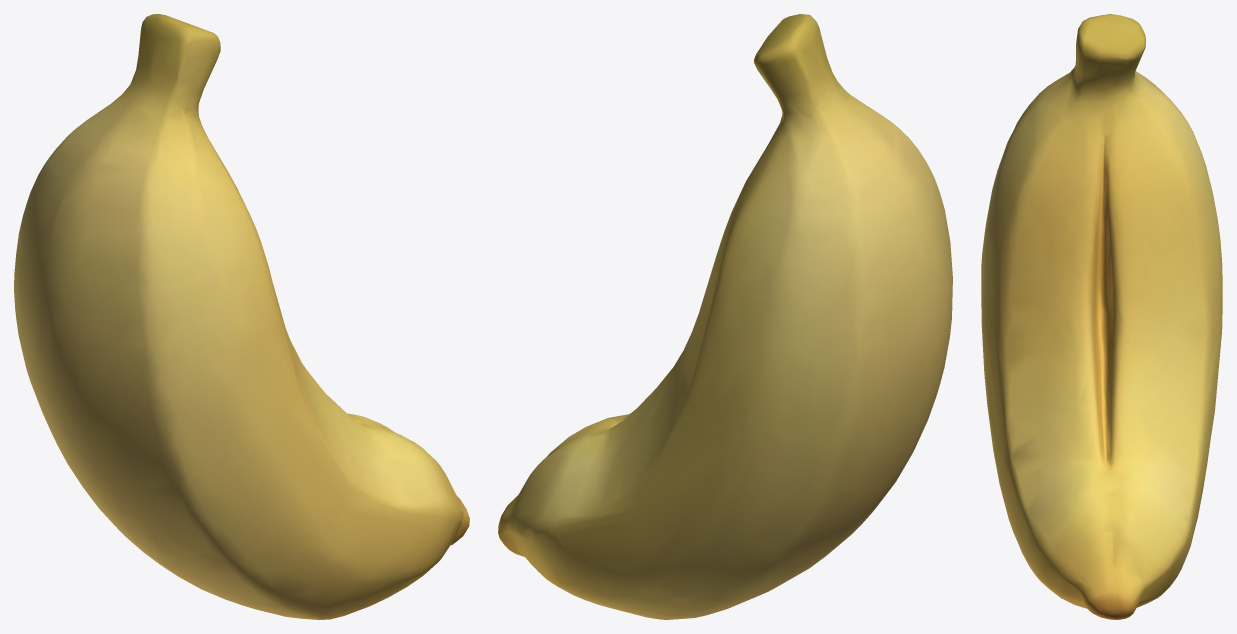
Rendered from food_banana.glb.
3 renders of one model, left to right at view 1: azimuth 30°, elevation 25°; view 2: azimuth 150°, elevation 25°; view 3: azimuth 270°, elevation 25°, orthographic. The views are drawn at different scales.
Visible parts, largest first — view 1: tripo_node_ea437032-7a98-4626-9059-2ff0e06b3902; view 2: tripo_node_ea437032-7a98-4626-9059-2ff0e06b3902; view 3: tripo_node_ea437032-7a98-4626-9059-2ff0e06b3902.
Part boxes in pixels (bbox=[...]): tripo_node_ea437032-7a98-4626-9059-2ff0e06b3902: bbox=[14, 14, 469, 619]; tripo_node_ea437032-7a98-4626-9059-2ff0e06b3902: bbox=[498, 14, 952, 619]; tripo_node_ea437032-7a98-4626-9059-2ff0e06b3902: bbox=[981, 14, 1222, 619].
Size of the model in its own units: 0.1442 by 0.2 by 0.0851.
Materials: 1 (1 with a texture image).
